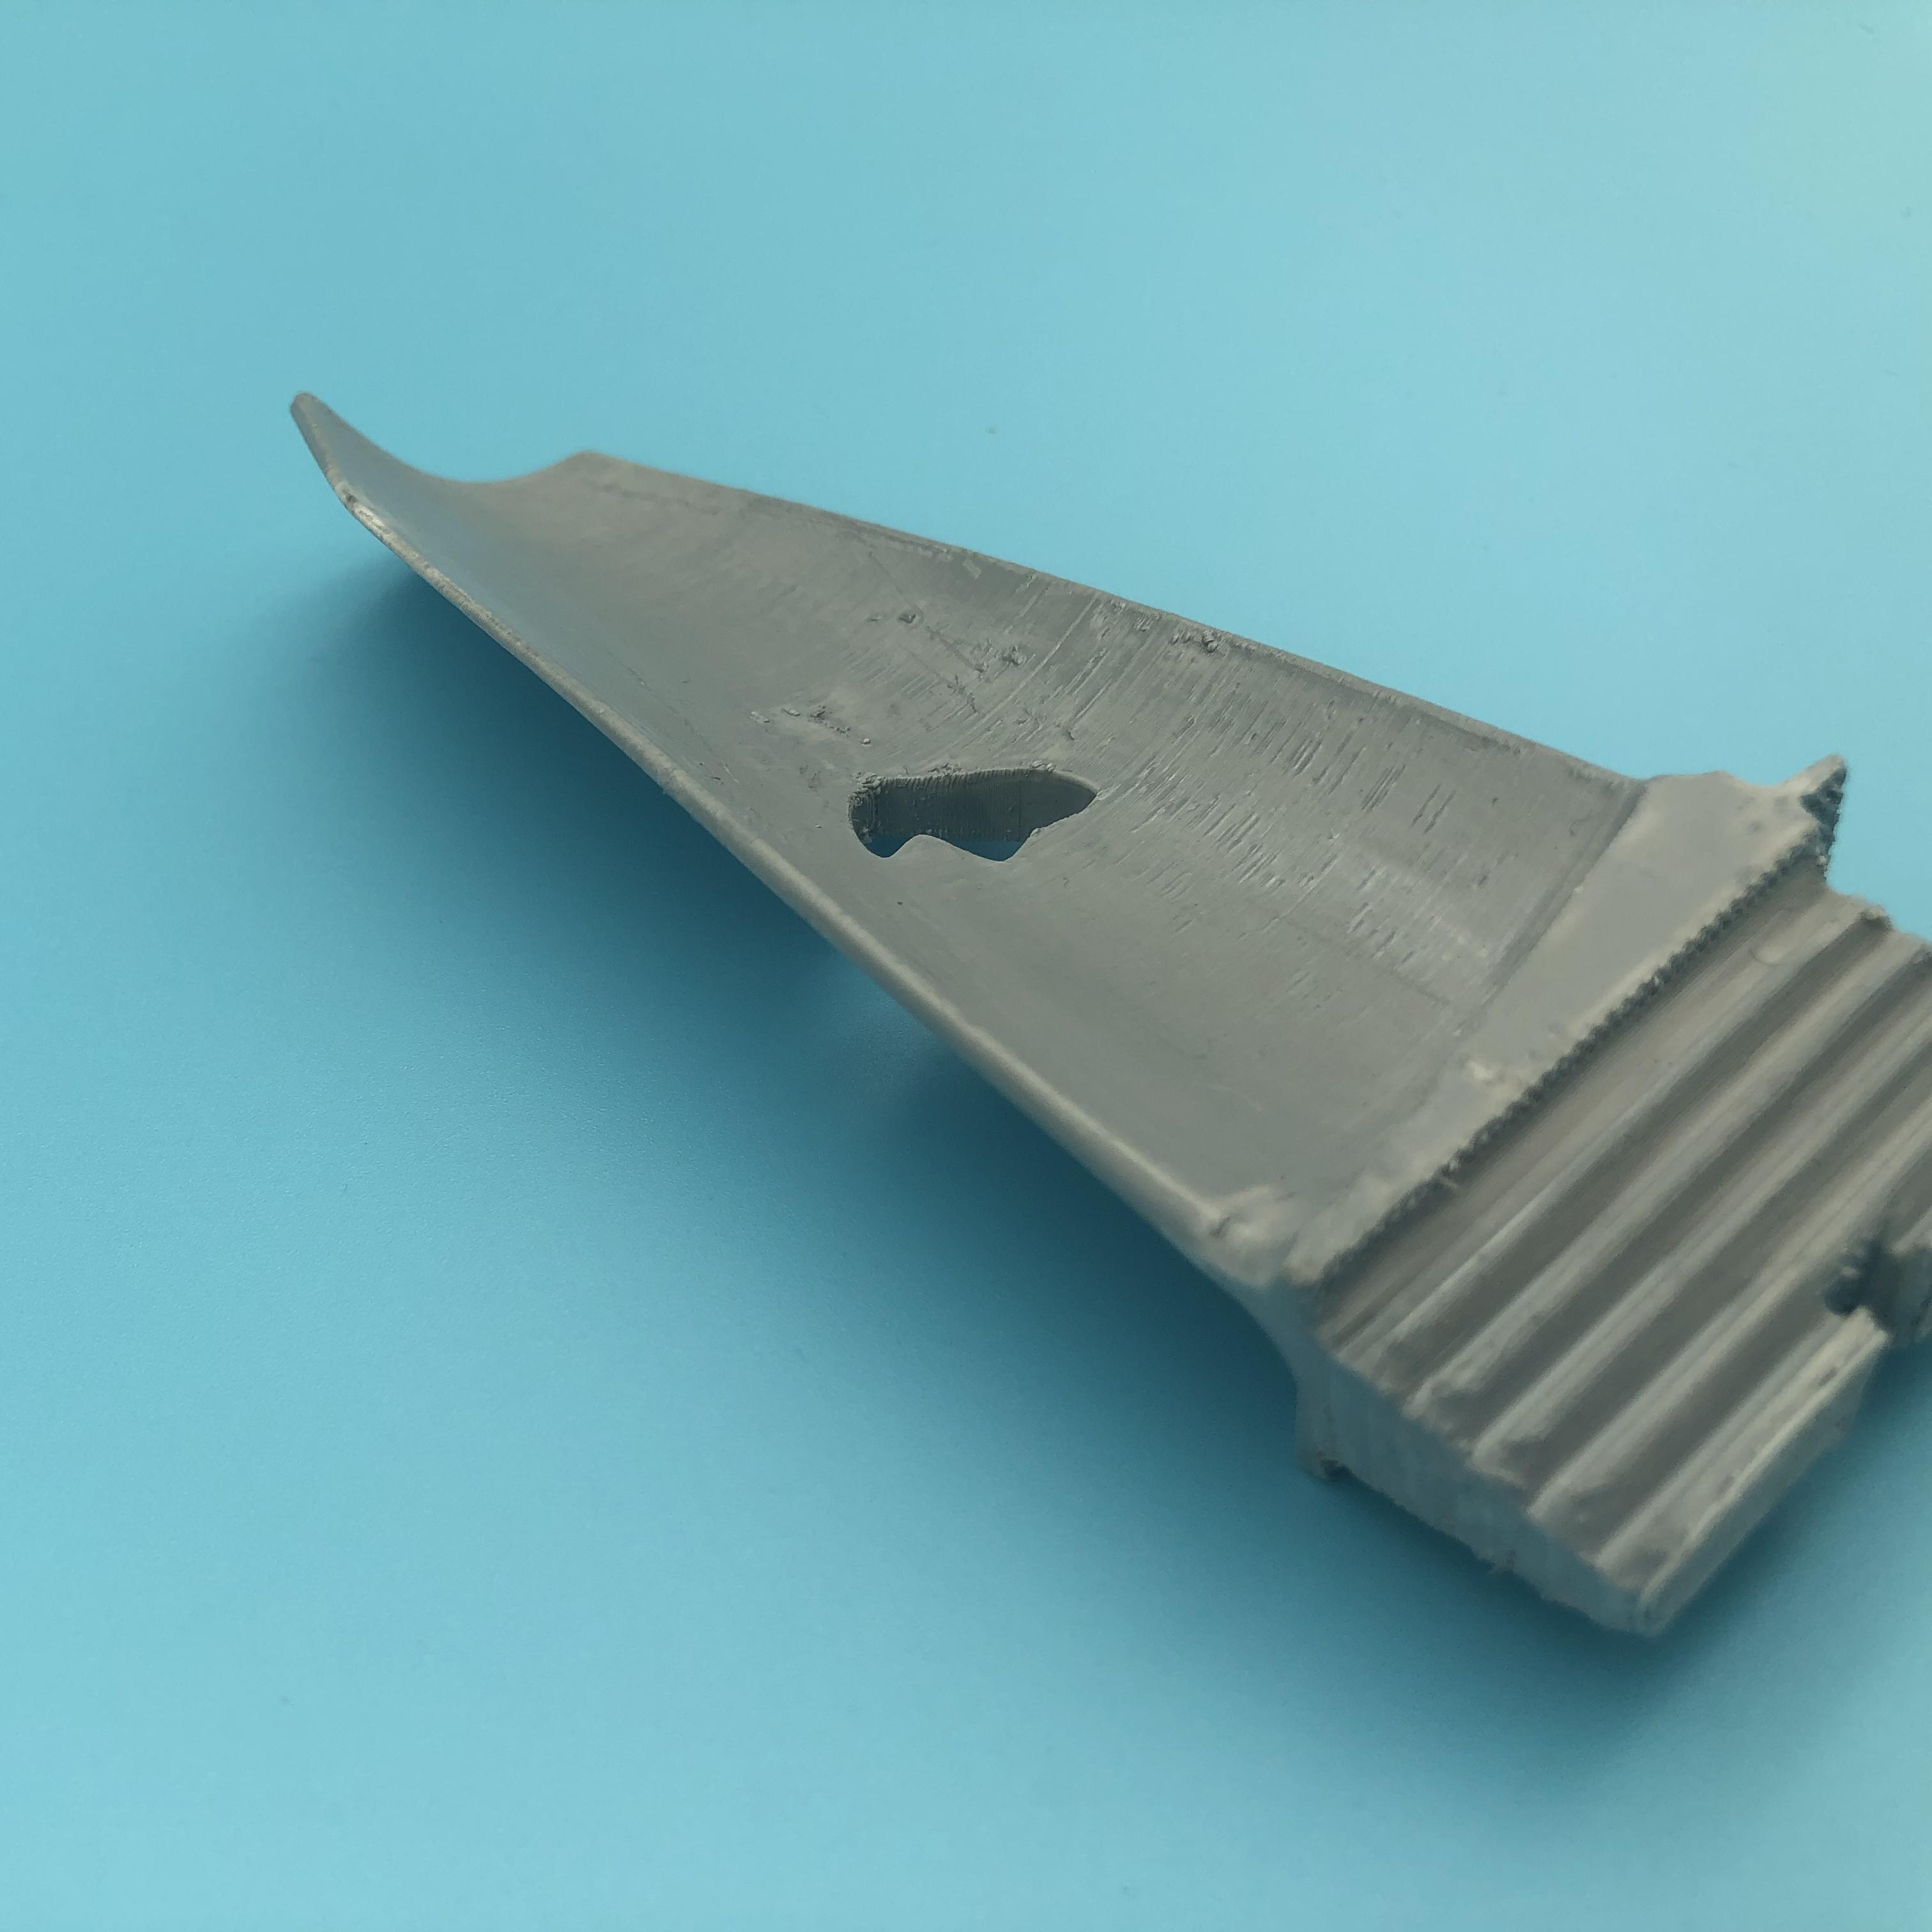breakdown: (846, 754, 1115, 876)
